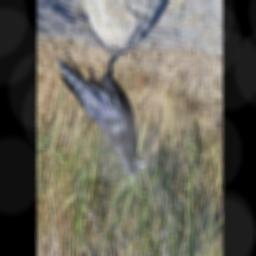Crow: (56, 39, 148, 180)
